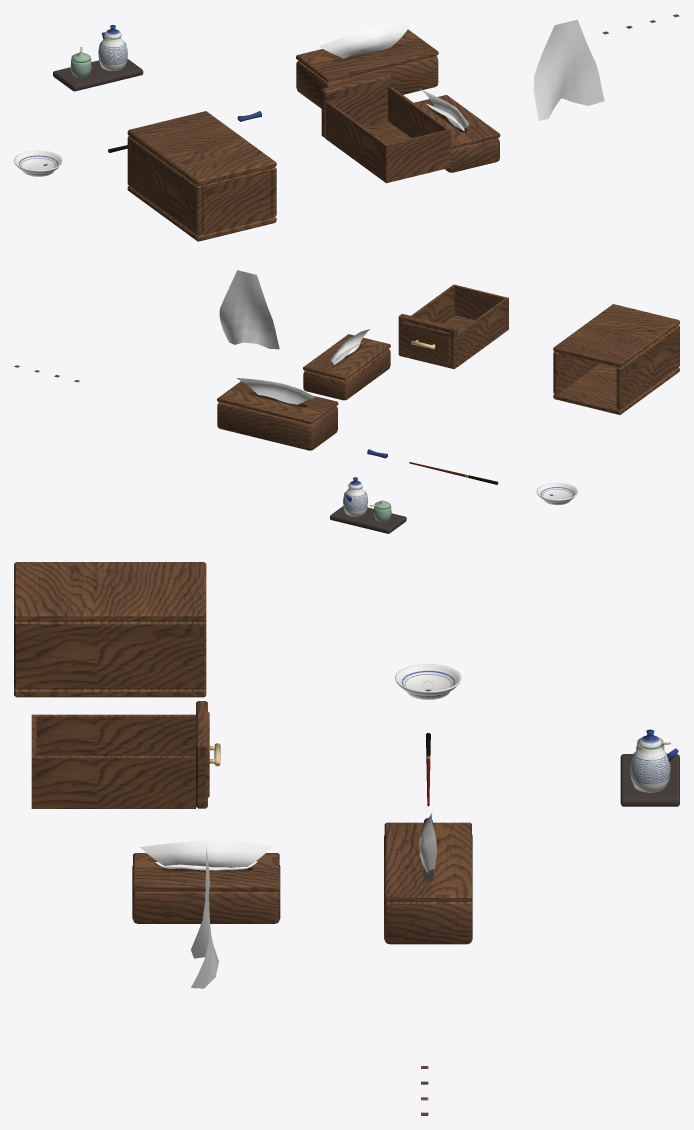
File: barsetting.glb
The picture shows the model from 3 angles, top to bottom: view 1: azimuth 30°, elevation 25°; view 2: azimuth 150°, elevation 25°; view 3: azimuth 270°, elevation 25°; orthographic projection. The views are drawn at different scales.
Parts seen in each view (by area): view 1: BarDrawerCaseBody, BarDrawerBody, BarTissueCase, BarTissuePullSheet, BarTissueLowCase, BarTissueSheet, BarCondTray, BarSoyDishBody, BarCondShoyu, BarTissueLowPop; view 2: BarDrawerCaseBody, BarDrawerBody, BarTissueCase, BarTissueLowCase, BarTissuePullSheet, BarTissueSheet, BarCondTray, BarSoyDishBody, BarCondShoyu; view 3: BarDrawerCaseBody, BarDrawerBody, BarTissueCase, BarTissueLowCase, BarTissueLowPop, BarSoyDishBody, BarCondTray, BarCondShoyu, BarTissuePullSheet.
Boxes of the visible parts, bbox=[...] form: BarDrawerCaseBody: bbox=[127, 111, 276, 241]; BarDrawerBody: bbox=[321, 73, 450, 183]; BarTissueCase: bbox=[296, 29, 438, 108]; BarTissuePullSheet: bbox=[533, 19, 604, 120]; BarTissueLowCase: bbox=[414, 95, 500, 172]; BarTissueSheet: bbox=[318, 23, 411, 58]; BarCondTray: bbox=[53, 58, 143, 91]; BarSoyDishBody: bbox=[14, 150, 62, 176]; BarCondShoyu: bbox=[98, 37, 127, 70]; BarTissueLowPop: bbox=[420, 89, 469, 129]; BarDrawerCaseBody: bbox=[553, 304, 679, 414]; BarDrawerBody: bbox=[398, 284, 508, 369]; BarTissueCase: bbox=[217, 381, 338, 450]; BarTissueLowCase: bbox=[303, 334, 390, 400]; BarTissuePullSheet: bbox=[219, 270, 279, 349]; BarTissueSheet: bbox=[236, 378, 315, 404]; BarCondTray: bbox=[330, 506, 406, 533]; BarSoyDishBody: bbox=[536, 482, 578, 505]; BarCondShoyu: bbox=[343, 488, 367, 516]; BarDrawerCaseBody: bbox=[14, 562, 206, 697]; BarDrawerBody: bbox=[31, 701, 209, 808]; BarTissueCase: bbox=[384, 822, 472, 944]; BarTissueLowCase: bbox=[132, 853, 280, 923]; BarTissueLowPop: bbox=[140, 839, 272, 867]; BarSoyDishBody: bbox=[395, 664, 461, 699]; BarCondTray: bbox=[620, 754, 679, 806]; BarCondShoyu: bbox=[630, 747, 670, 792]; BarTissuePullSheet: bbox=[191, 847, 218, 988].
Bounding box in the file's own units: 1.41 × 0.2 × 0.9.
Materials: 15 (10 with a texture image).
